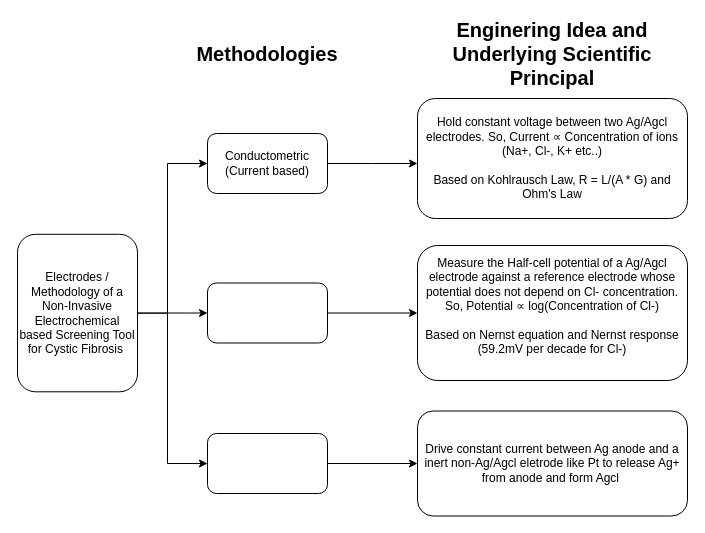
This 705x533 diagram has some shape labels left out. Here are the shapes that lost their labels. From the top down, the centre of each, then its label:
the point at 267,312: Potentiometric (Half-cell Voltage Based)
the point at 267,463: Coulometric (Charge Based)
